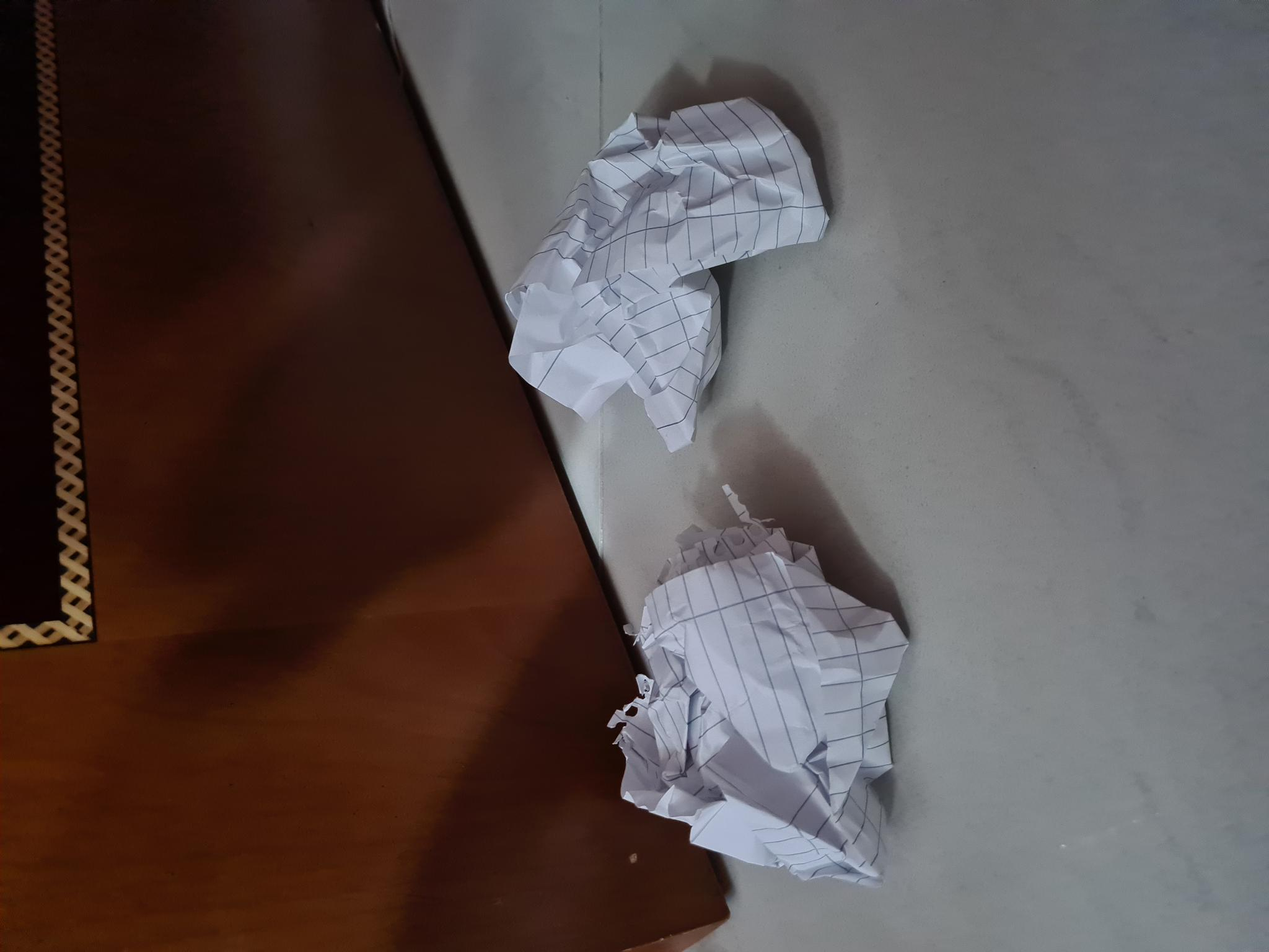Kertas: (73, 615, 445, 904), (522, 581, 856, 807)
